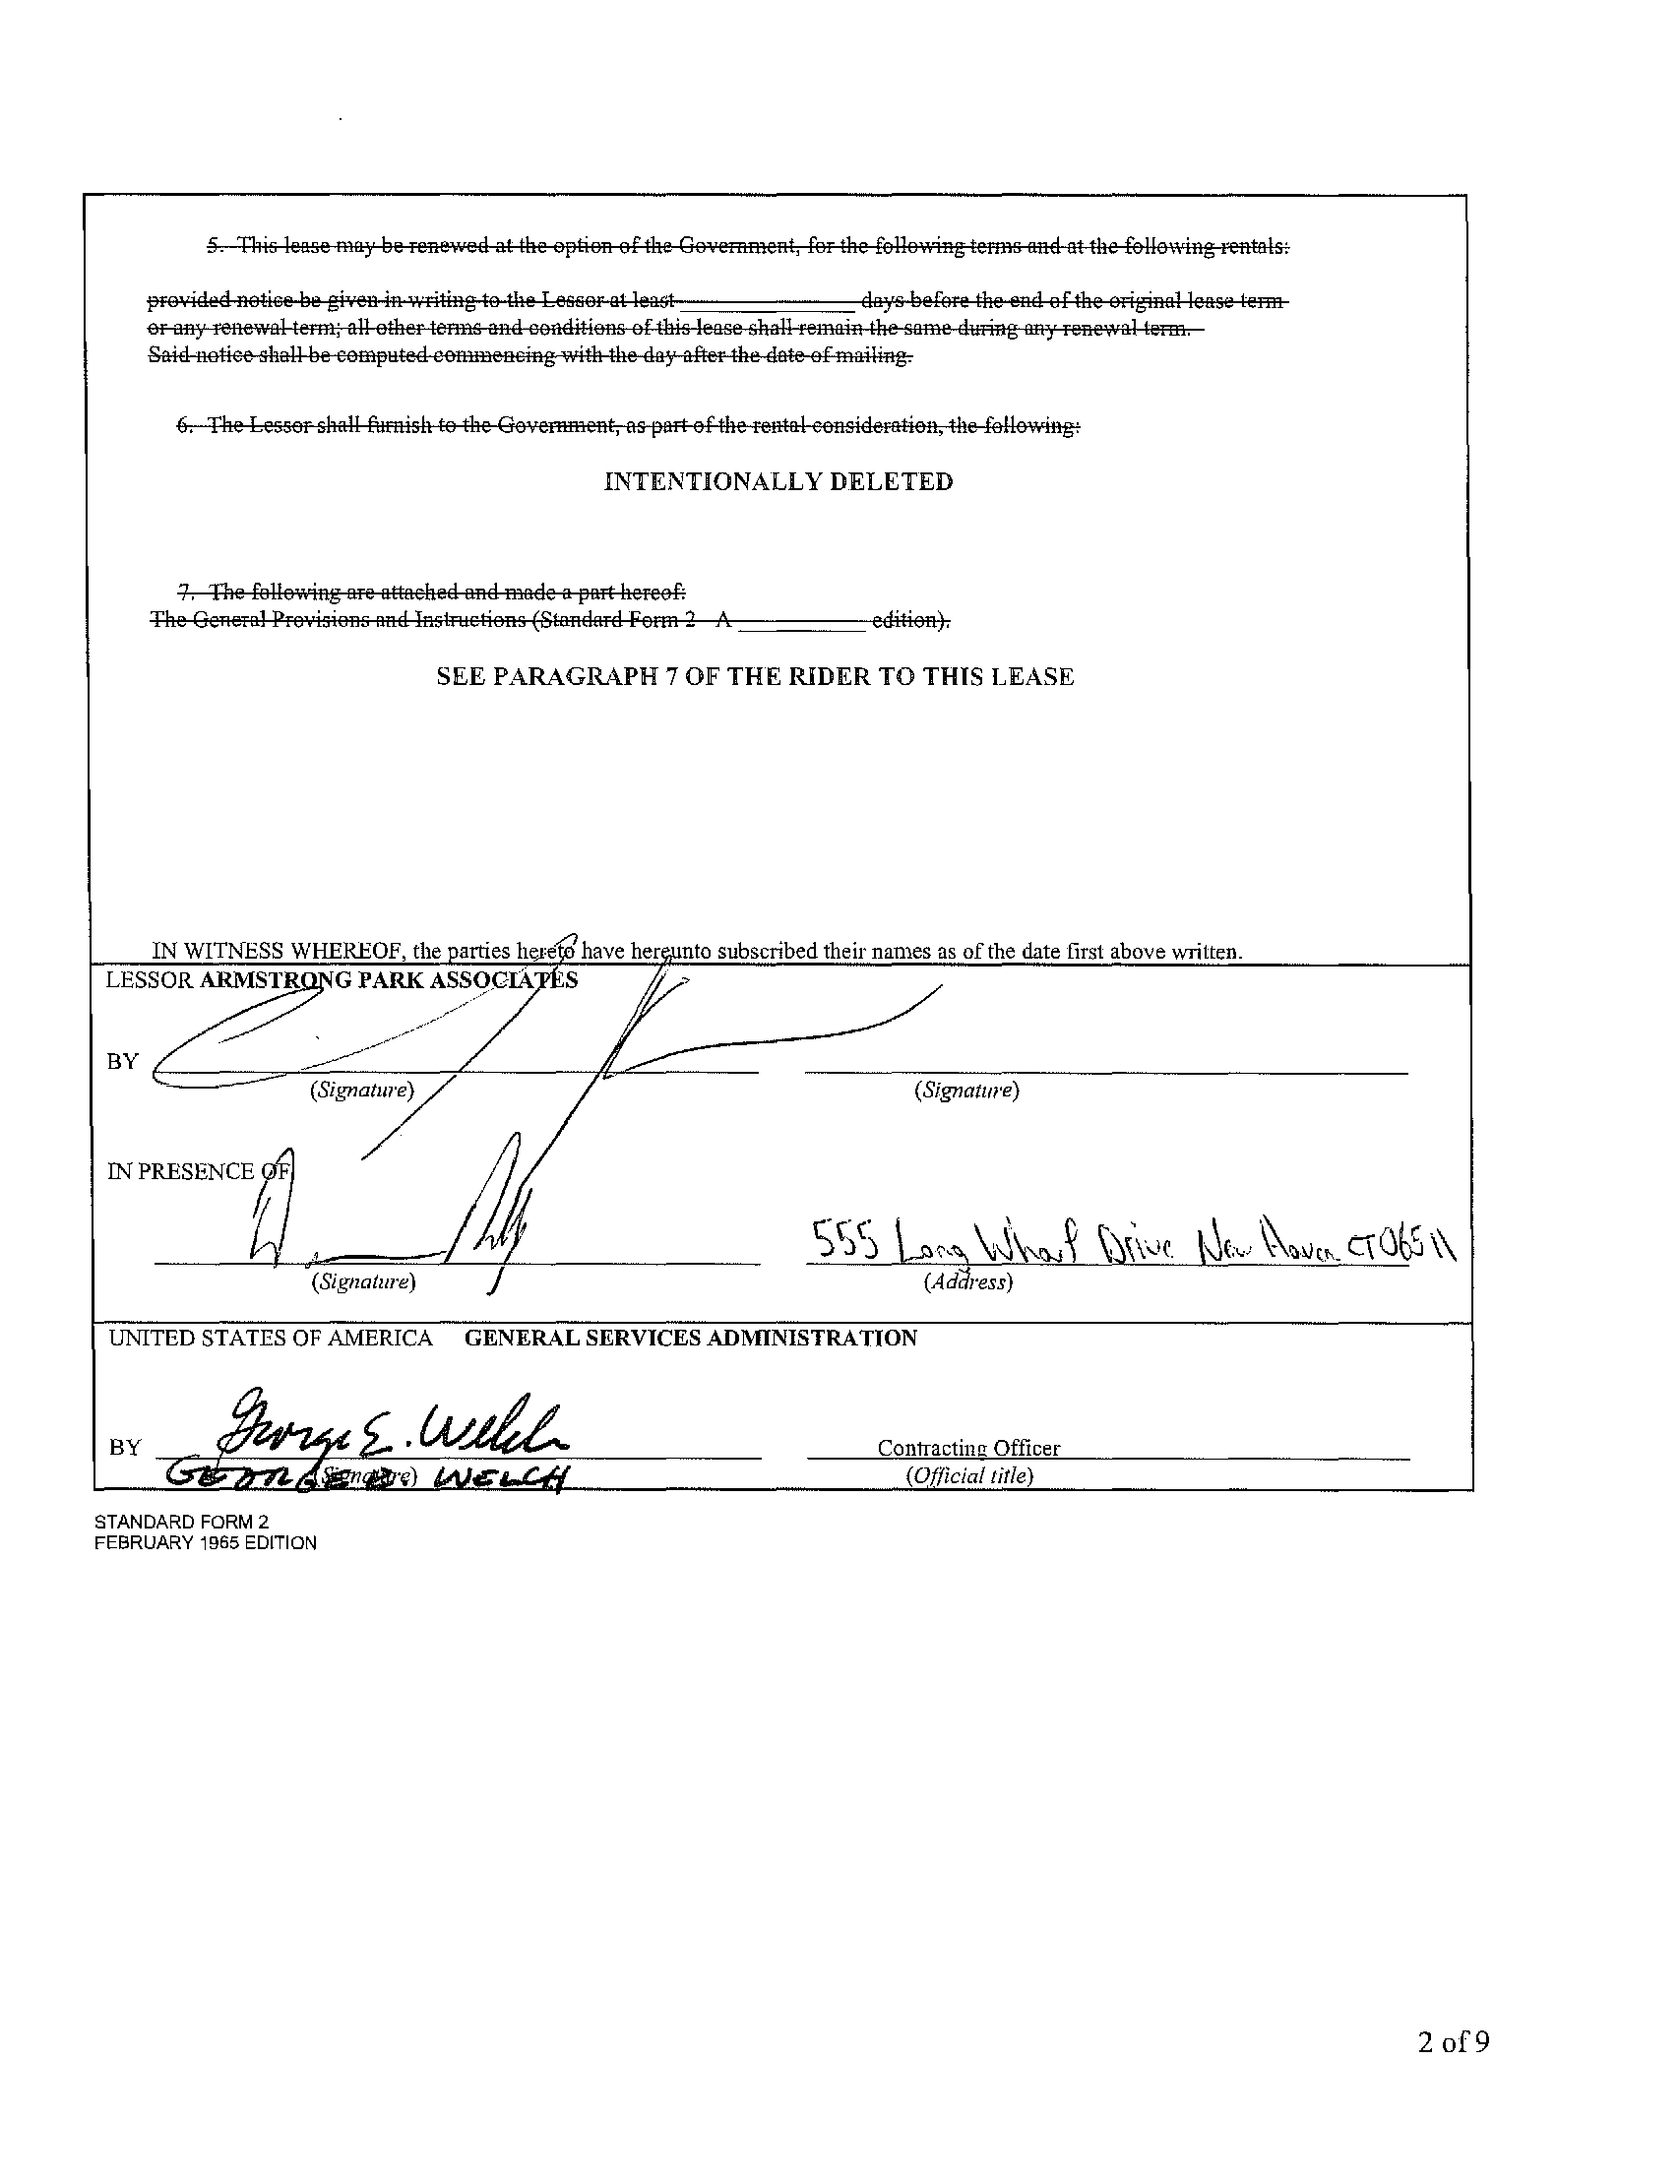handwritten: (146, 983, 976, 1138), (803, 1184, 1463, 1263), (166, 1383, 595, 1491), (228, 1194, 559, 1268), (454, 1108, 540, 1307)
